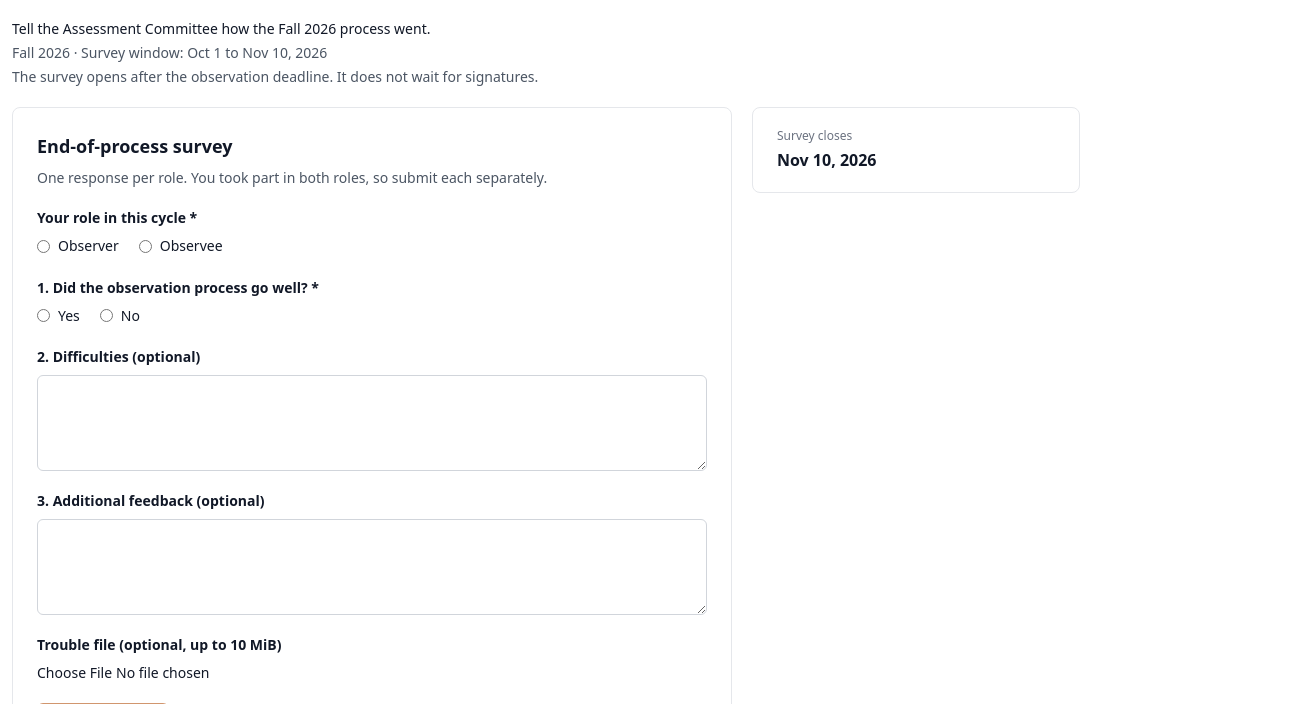
Test: preserves draft and explains SURVEY_CLOSED backend failure
Click the radio button labelled "observer" at (44, 246), box top-left (37, 240), bottom-right (50, 252)
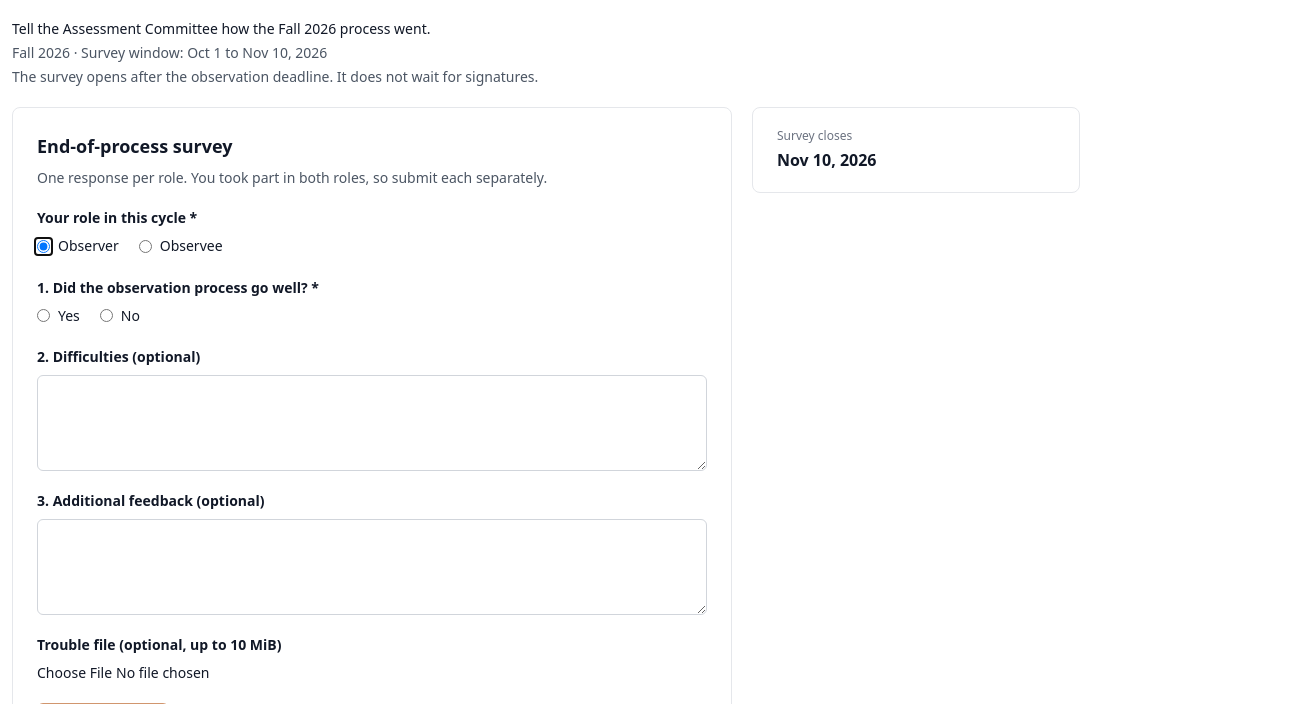
Click the radio button labelled "no" at (106, 316), box top-left (100, 309), bottom-right (113, 322)
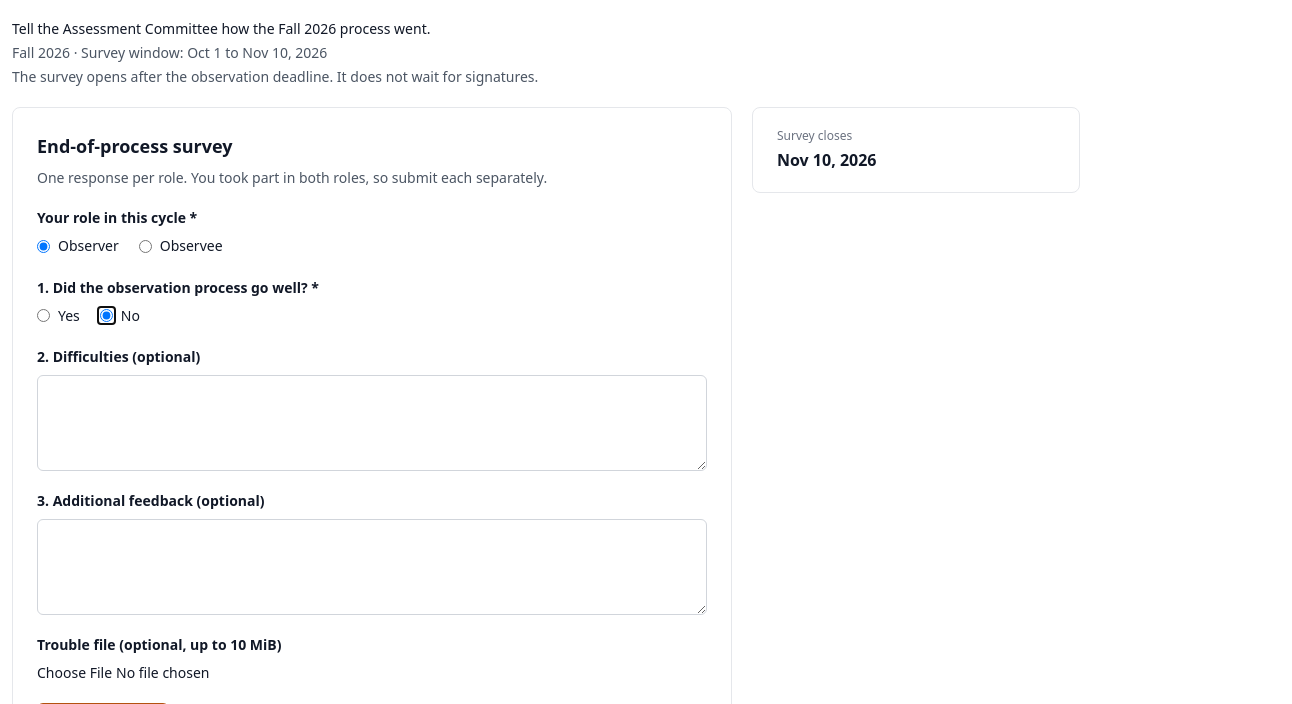
Type "Scheduling was hard" into the text box labelled "2. Difficulties (optional)" at (372, 423), box top-left (37, 375), bottom-right (707, 471)
(page scrolled)
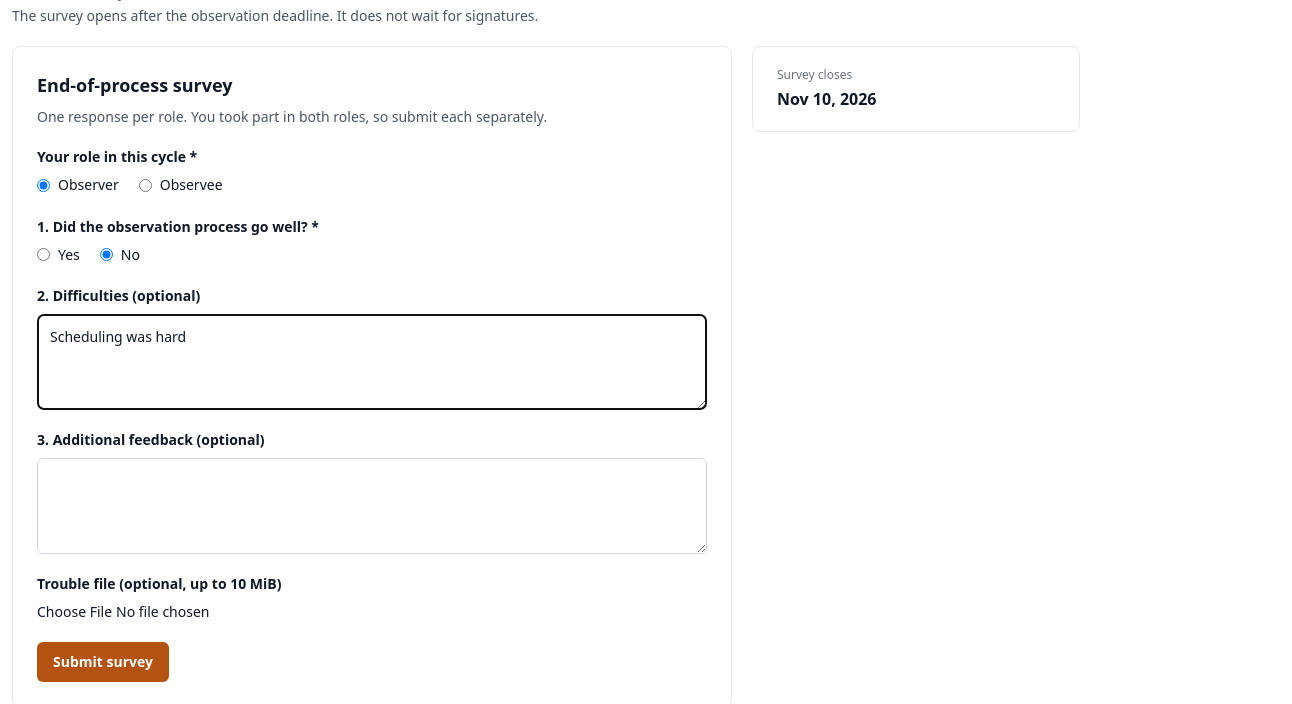
Click the button "Submit survey" at (103, 662), box top-left (37, 642), bottom-right (169, 682)
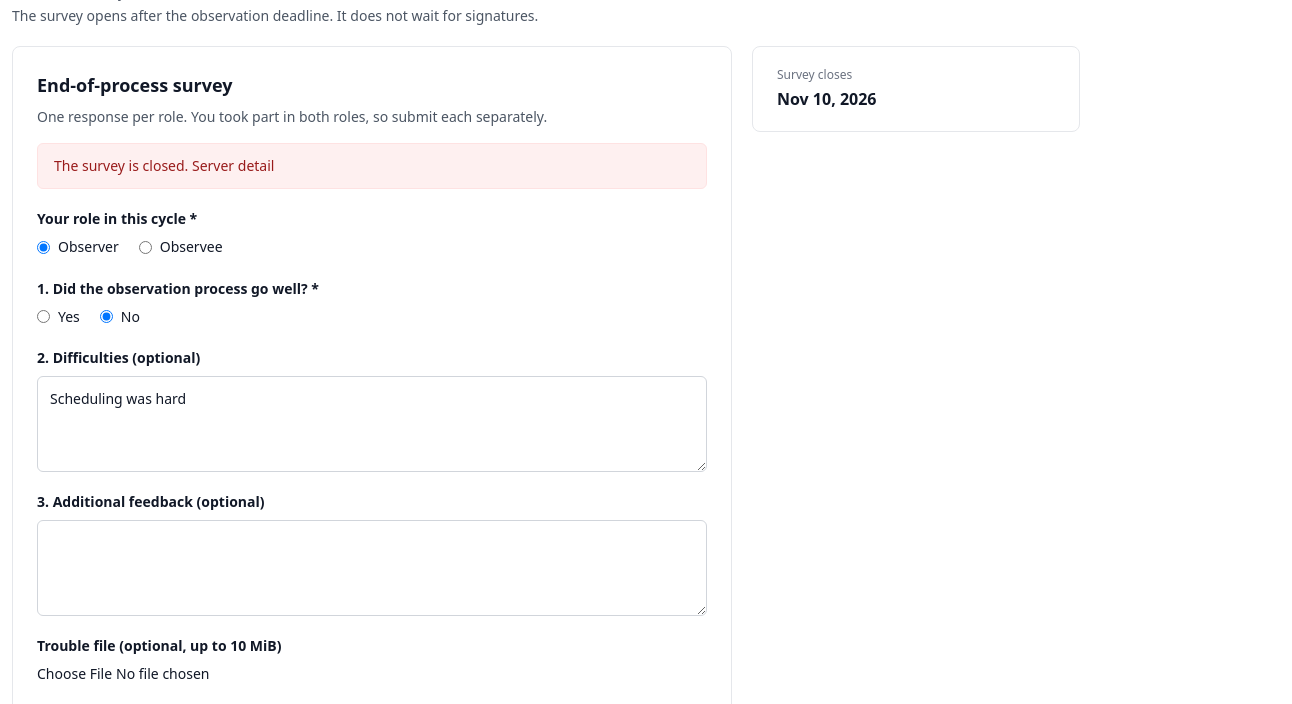
Now the radio button labelled "observer" is checked, box top-left (37, 240), bottom-right (50, 254)
Now the message shows "closed", box top-left (54, 156), bottom-right (274, 175)
